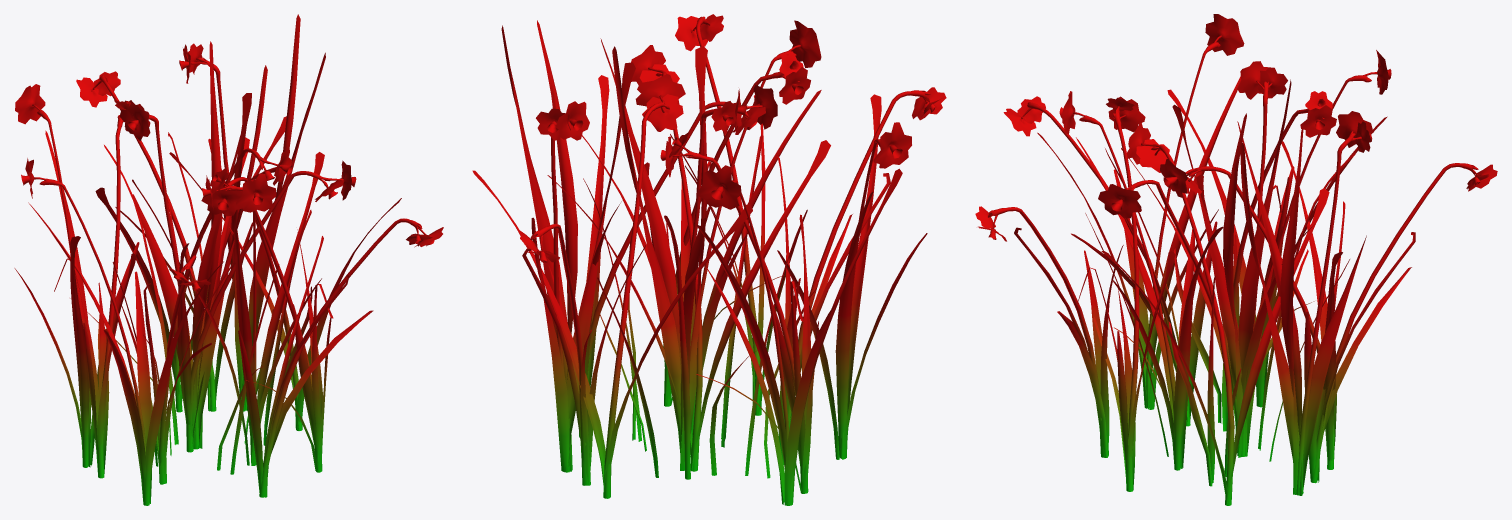
The model's file is Rush Daffodil_LOD1_Var10_wftgfjaia.fbx.
3 renders of one model, left to right at view 1: azimuth 30°, elevation 25°; view 2: azimuth 150°, elevation 25°; view 3: azimuth 270°, elevation 25°, orthographic. The views are drawn at different scales.
Parts seen in each view (by area): view 1: _bnr9_var10_LOD1; view 2: _bnr9_var10_LOD1; view 3: _bnr9_var10_LOD1.
Boxes of the visible parts, x1,y1,x2,y2 form: _bnr9_var10_LOD1: (14,14,443,505); _bnr9_var10_LOD1: (472,14,946,505); _bnr9_var10_LOD1: (975,14,1497,505).
Size of the model in its own units: 35.2 by 39.64 by 47.27.
